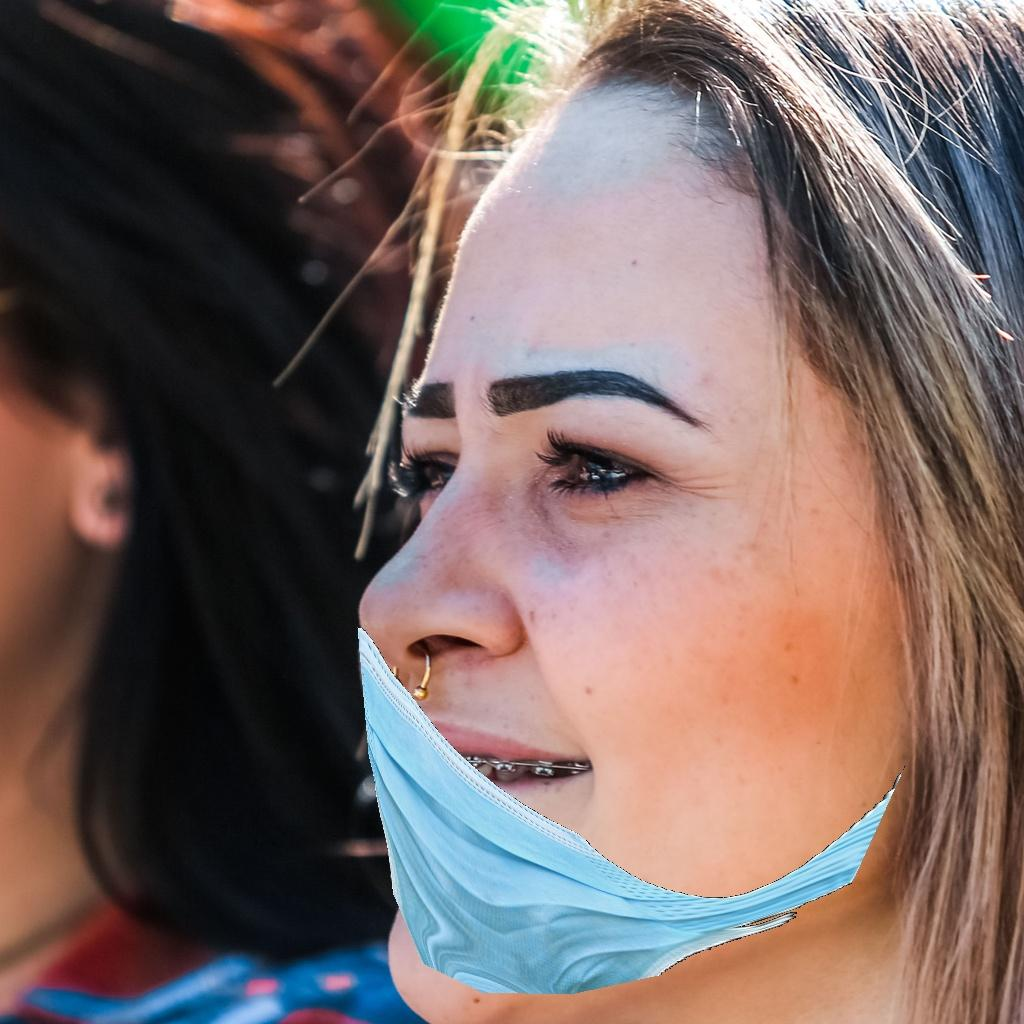Máscara Incorreta: (346, 235, 909, 987)
